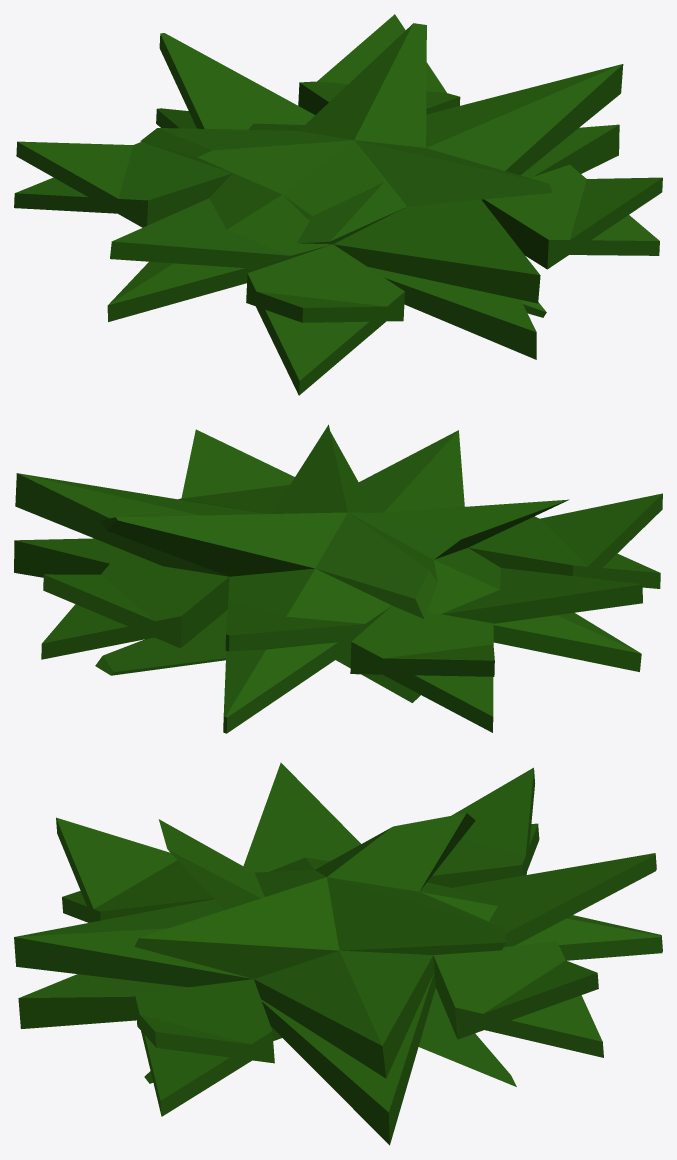
File: fern.fbx
The picture shows the model from 3 angles, top to bottom: view 1: azimuth 30°, elevation 25°; view 2: azimuth 150°, elevation 25°; view 3: azimuth 270°, elevation 25°; orthographic projection. The views are drawn at different scales.
Visible parts, largest first — view 1: Plane; view 2: Plane; view 3: Plane.
Boxes of the visible parts, bbox=[...] form: Plane: bbox=[14, 14, 662, 395]; Plane: bbox=[14, 424, 662, 733]; Plane: bbox=[14, 762, 662, 1145].
Bounding box in the file's own units: 124 × 34.61 × 116.
